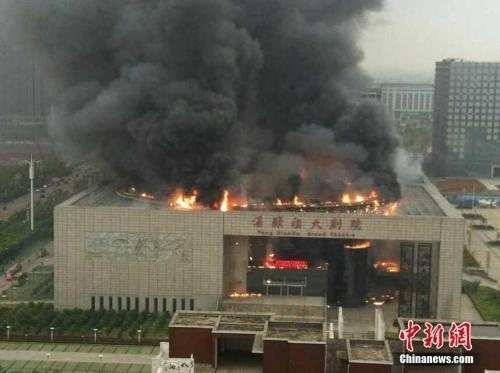fire: (173, 186, 199, 208), (230, 287, 260, 299), (215, 188, 231, 210), (376, 258, 400, 272), (346, 239, 371, 249), (291, 192, 305, 206)
